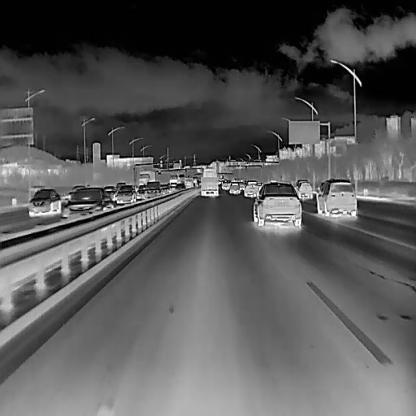car: (251, 180, 301, 226), (315, 177, 358, 217), (63, 184, 106, 219), (26, 186, 61, 215), (111, 184, 137, 206), (144, 180, 160, 199), (242, 180, 260, 196), (298, 180, 313, 199), (136, 181, 147, 199), (100, 184, 114, 196), (228, 181, 240, 194), (173, 182, 186, 193), (160, 184, 170, 194), (219, 180, 228, 190)
truck: (198, 166, 219, 196), (138, 169, 155, 183), (183, 176, 194, 188), (168, 173, 178, 184)
